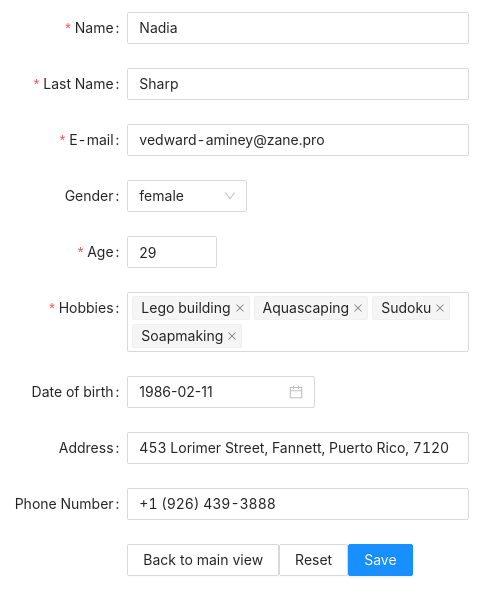
User Form Tests › Last name validation
Clear the field labelled "Last Name" at (298, 84), box 127,68 -> 468,100
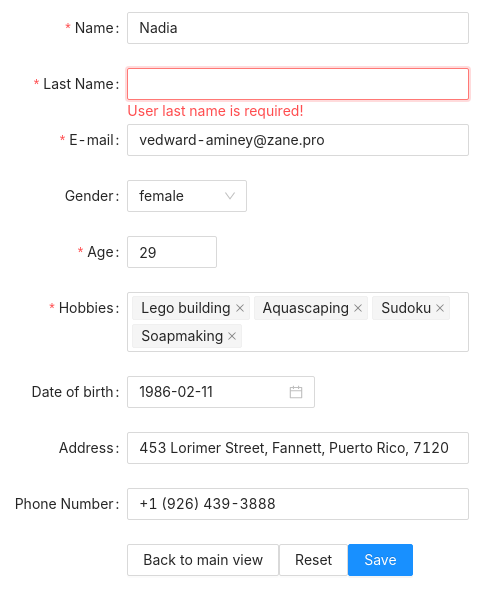
expect the text "User last name is required!" is shown: met, box 127,102 -> 303,119
Type "Johnson" into the field labelled "Last Name" at (298, 84), box 127,68 -> 468,100
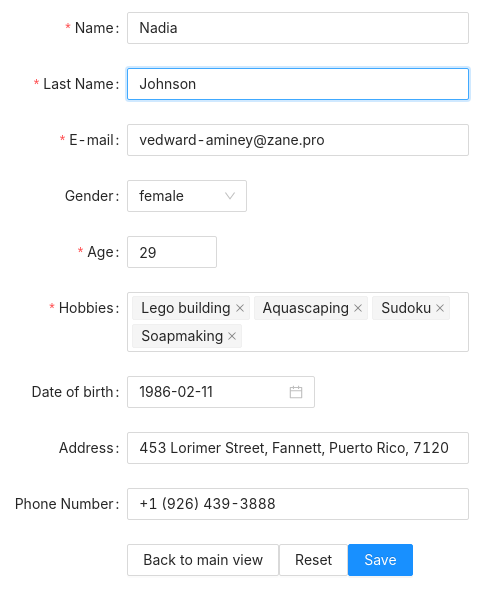
expect the text "User last name is required!" is gone: met
